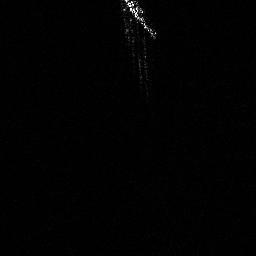ship: (122, 1, 160, 43)
